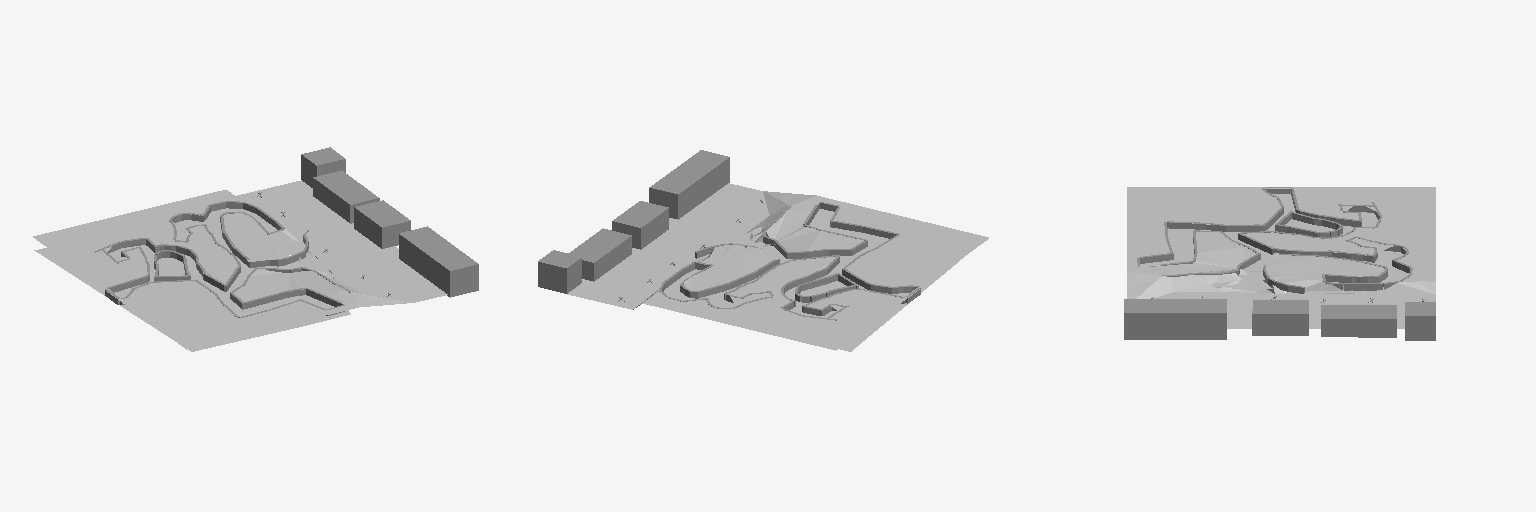
3 views of the same model, side by side, from view 1: azimuth 30°, elevation 25°; view 2: azimuth 150°, elevation 25°; view 3: azimuth 270°, elevation 25° (orthographic).
Parts seen in each view (by area): view 1: Plane, unityexport, Plane.001; view 2: Plane, unityexport, Plane.001; view 3: Plane, unityexport, Plane.001.
Part boxes in pixels (bbox=[...]): Plane: bbox=[33, 180, 447, 349]; unityexport: bbox=[94, 147, 478, 317]; Plane.001: bbox=[34, 208, 350, 351]; Plane: bbox=[567, 183, 988, 350]; unityexport: bbox=[538, 150, 920, 320]; Plane.001: bbox=[644, 209, 963, 351]; Plane: bbox=[1127, 187, 1435, 328]; unityexport: bbox=[1124, 187, 1435, 340]; Plane.001: bbox=[1140, 194, 1411, 293].
Size of the model in its own units: 127 by 11.61 by 113.